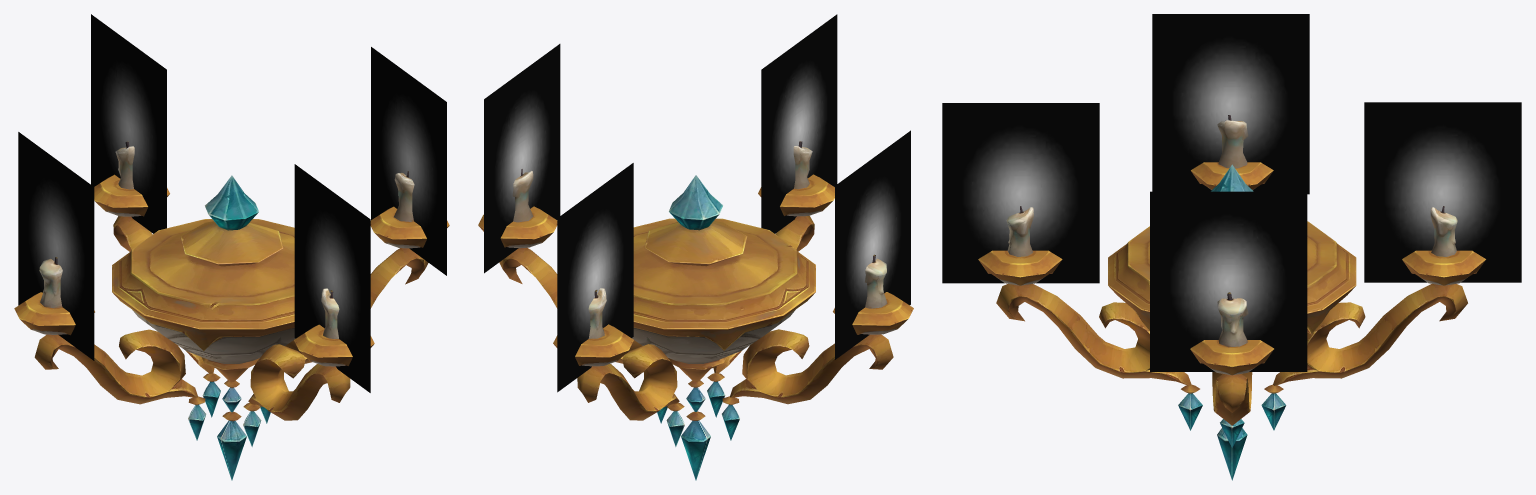
3 views of the same model, side by side, from view 1: azimuth 30°, elevation 25°; view 2: azimuth 150°, elevation 25°; view 3: azimuth 270°, elevation 25° (orthographic). The views are drawn at different scales.
Bounding box in the file's own units: 15.11 × 12.4 × 17.22.
3 materials, 3 textured.
